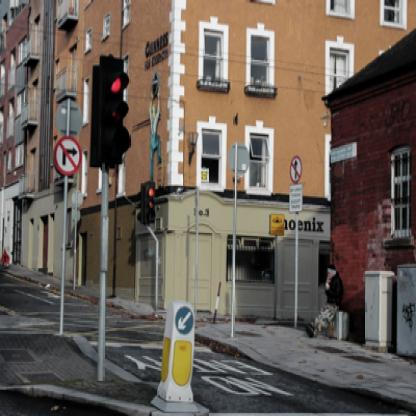Red Light: (99, 55, 132, 169), (144, 182, 158, 227)
